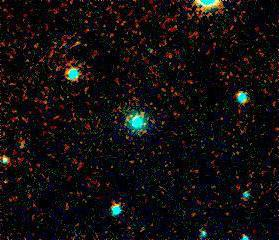star: (7, 131, 37, 161)
